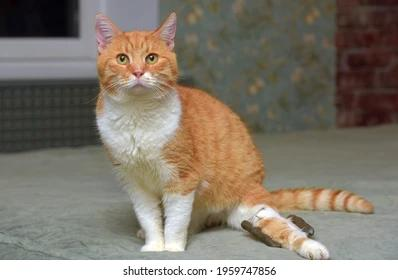fracture: (220, 192, 344, 260)
